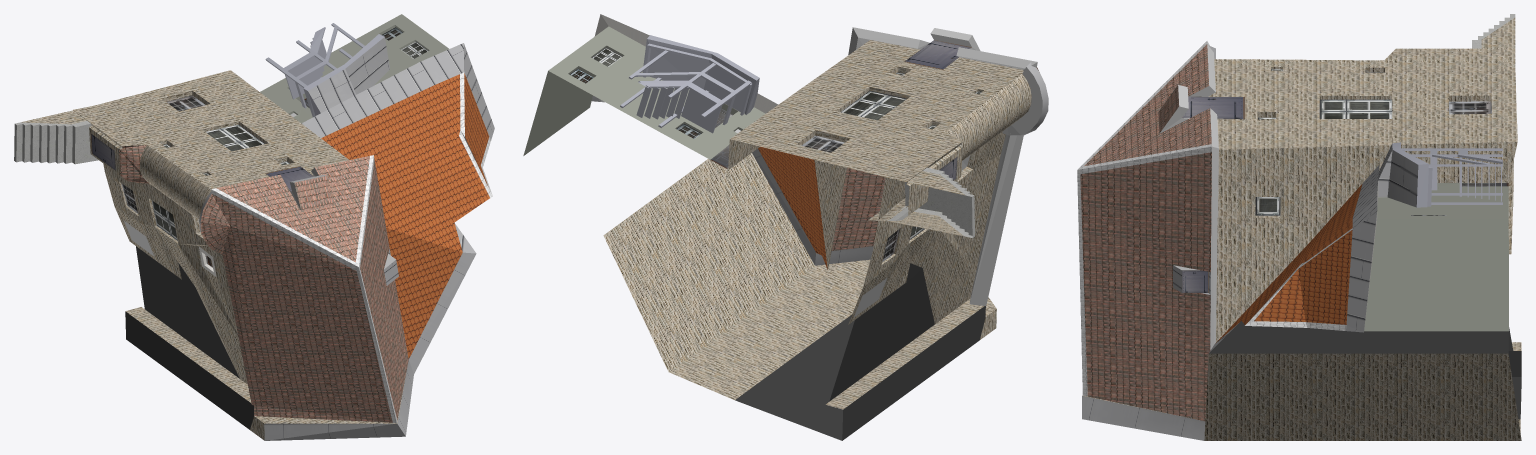
File: Vene_6_2.obj
The picture shows the model from 3 angles, left to right: view 1: azimuth 30°, elevation 25°; view 2: azimuth 150°, elevation 25°; view 3: azimuth 270°, elevation 25°; orthographic projection. The views are drawn at different scales.
Visible parts, largest first — view 1: Vene_6_2; view 2: Vene_6_2; view 3: Vene_6_2.
Part boxes in pixels (<box>): Vene_6_2: <box>14,14,494,440</box>; Vene_6_2: <box>523,14,1048,440</box>; Vene_6_2: <box>1077,14,1521,440</box>.
Size of the model in its own units: 20.46 by 13.17 by 15.64.
